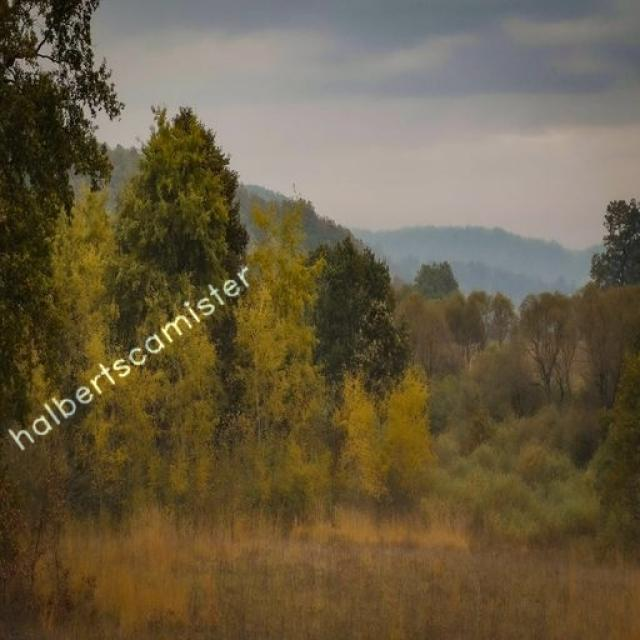watermark: (11, 254, 256, 457)
